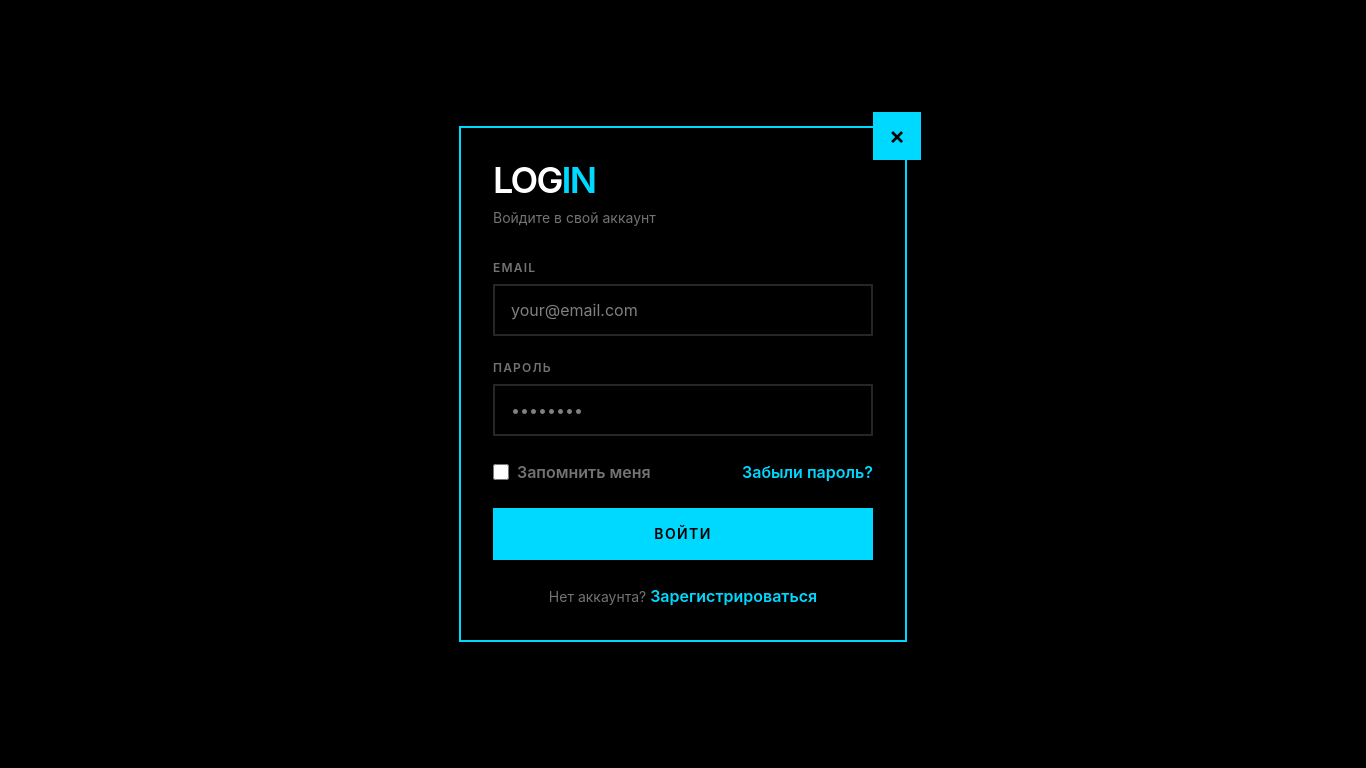
LoginModal — forgot password › shows confirmation screen after reset email sent
Click the button "Забыли пароль?" at (808, 472), box [742,460,873,484]
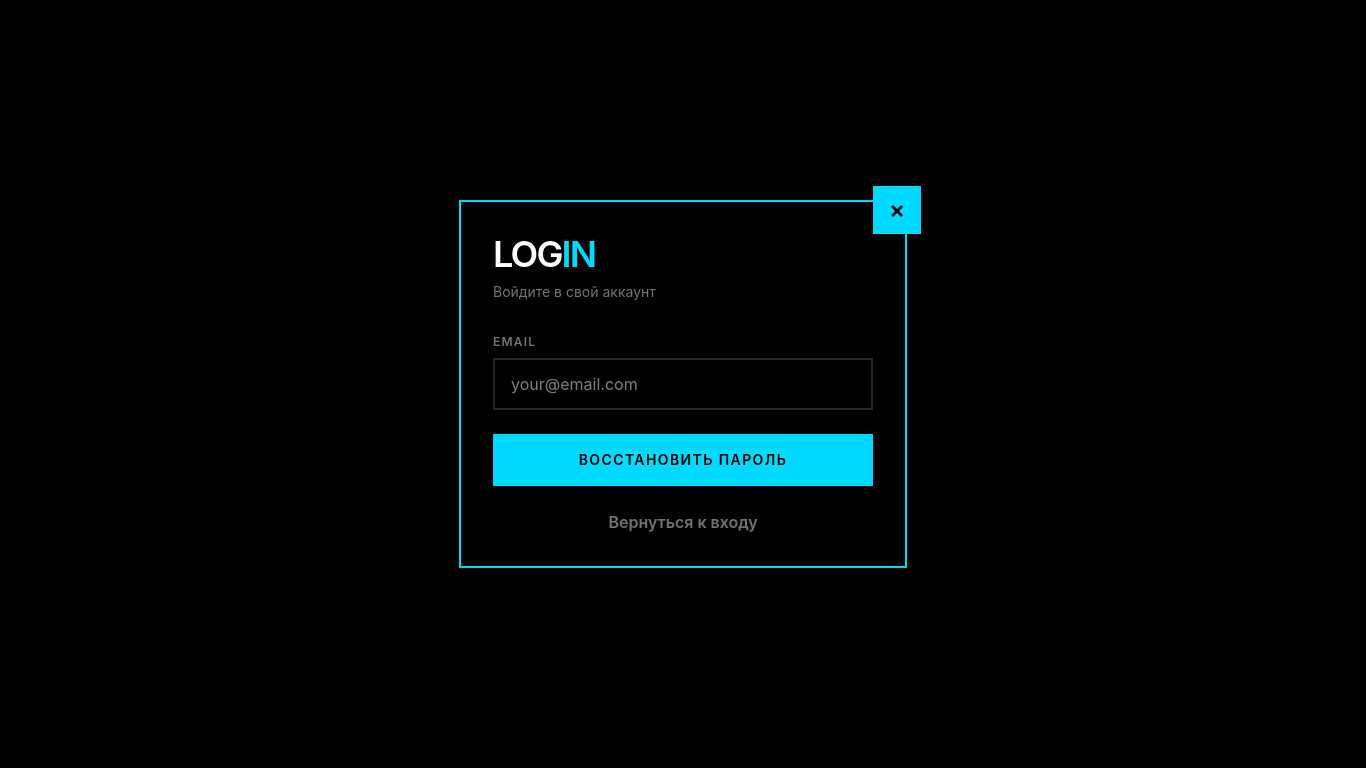
Type "reset@test.com" into the field with placeholder "your@email.com" at (683, 384), box [493,358,873,410]
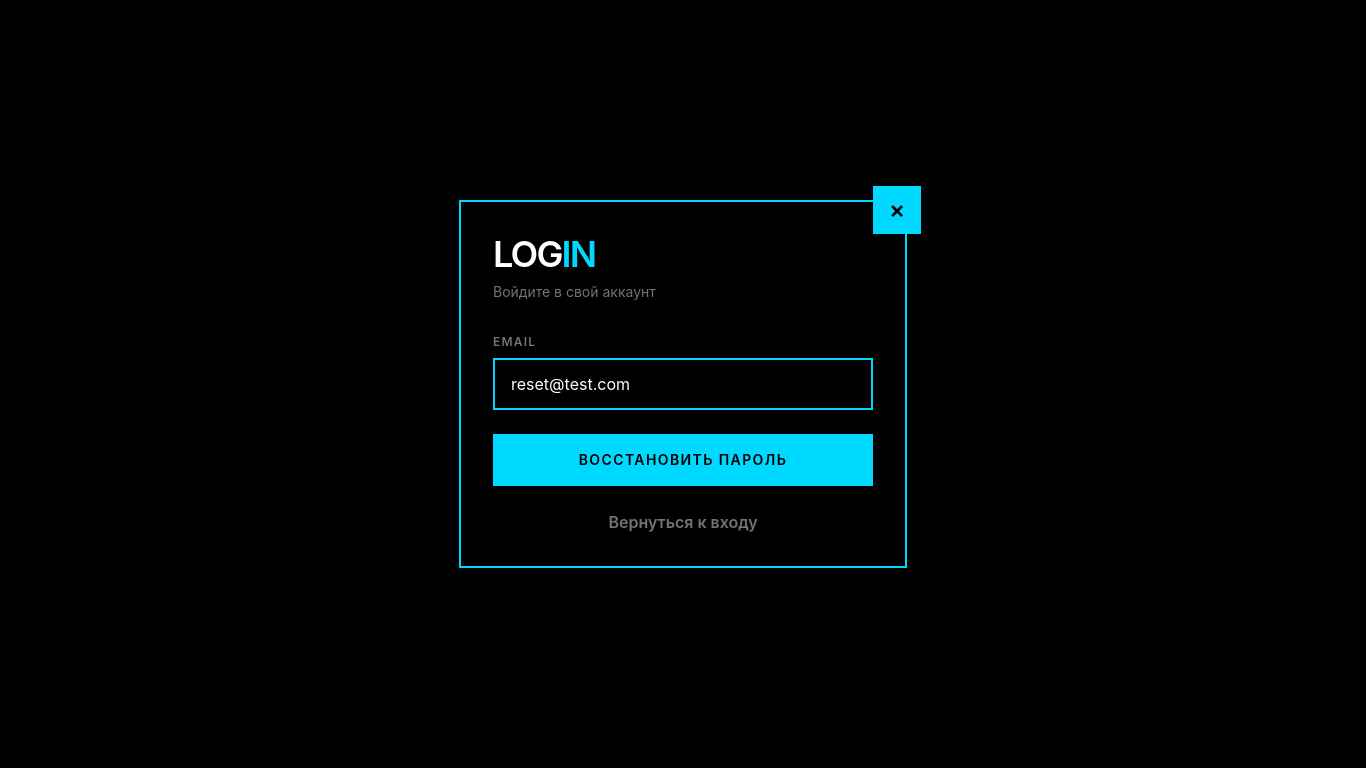
Click the button "ВОССТАНОВИТЬ ПАРОЛЬ" at (683, 460), box [493,434,873,486]
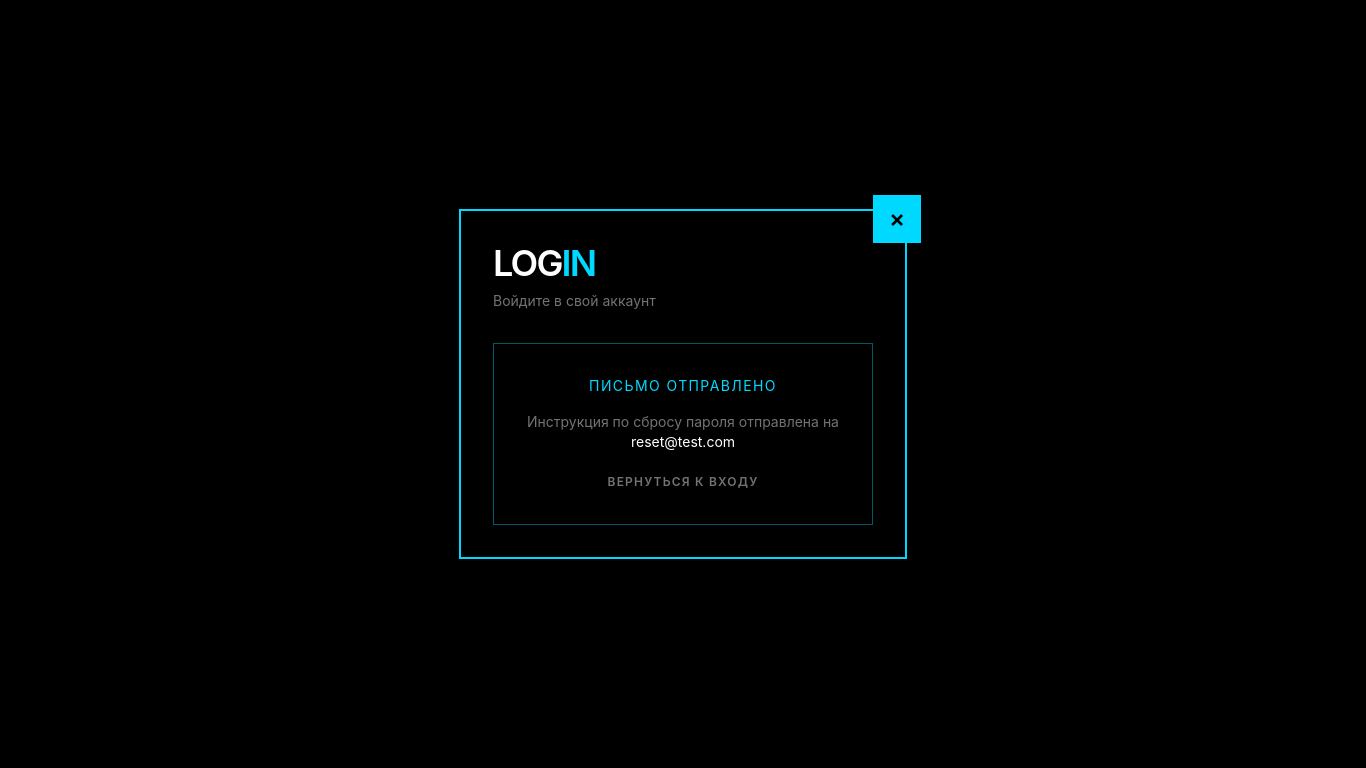
Expected: the text "ПИСЬМО ОТПРАВЛЕНО" is shown, [589,377,777,394]
